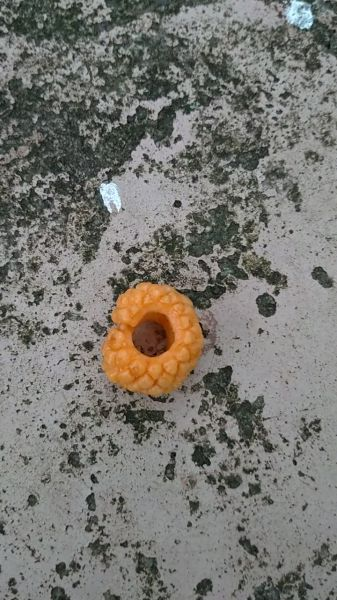eggs: (93, 276, 213, 396)
